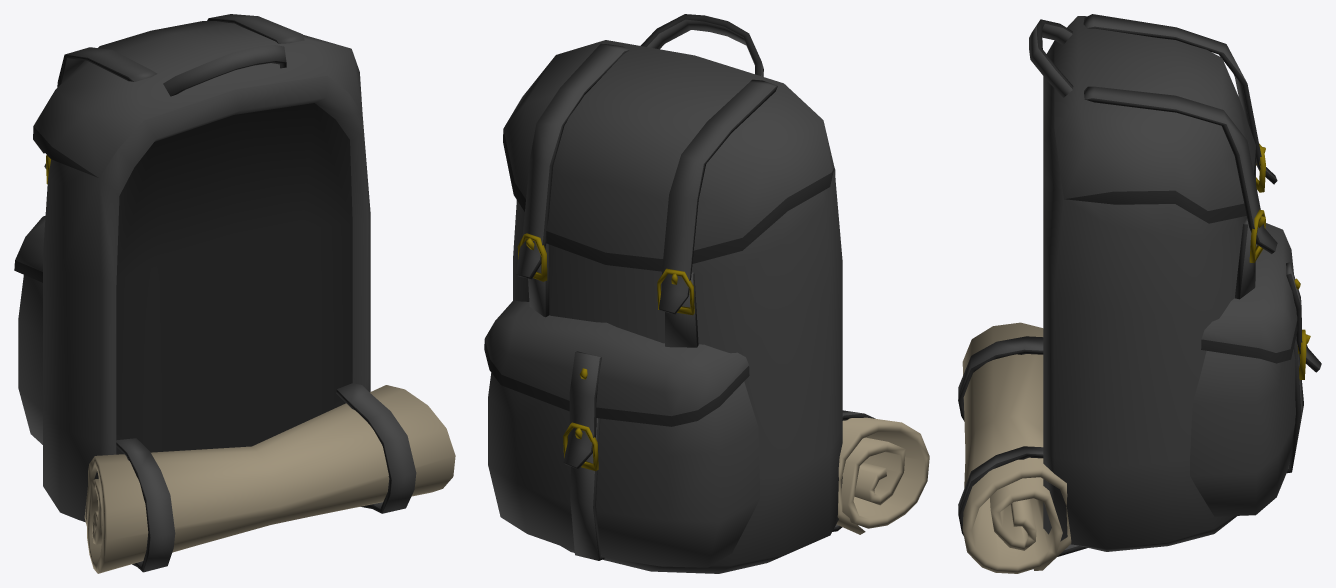
The model's file is backpack.glb.
The picture shows the model from 3 angles, left to right: view 1: azimuth 30°, elevation 25°; view 2: azimuth 150°, elevation 25°; view 3: azimuth 270°, elevation 25°; orthographic projection.
Parts seen in each view (by area): view 1: Backpack; view 2: Backpack; view 3: Backpack.
Boxes of the visible parts, x1,y1,x2,y2 form: Backpack: [14, 14, 455, 573]; Backpack: [484, 14, 929, 573]; Backpack: [958, 14, 1321, 573].
Size of the model in its own units: 0.5361 by 0.7043 by 0.4904.
Materials: 1 (1 with a texture image).
